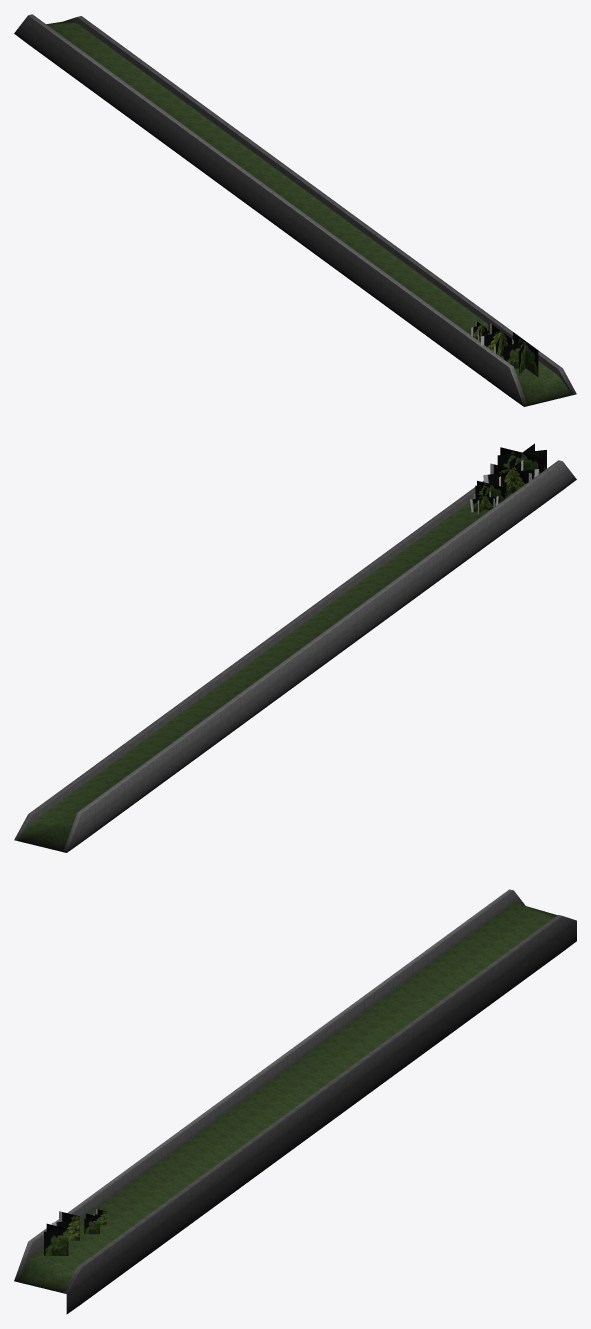
Rendered from KH_LEFT_AMB_100_05.glb.
3 views of the same model, one above another, from view 1: azimuth 30°, elevation 25°; view 2: azimuth 150°, elevation 25°; view 3: azimuth 330°, elevation 25° (orthographic).
Parts seen in each view (by area): view 1: LeftWall1, obj30; view 2: LeftWall1, obj30; view 3: LeftWall1, obj30.
Part boxes in pixels (bbox=[...]): LeftWall1: bbox=[14, 14, 576, 406]; obj30: bbox=[471, 320, 538, 377]; LeftWall1: bbox=[14, 460, 576, 852]; obj30: bbox=[470, 443, 546, 513]; LeftWall1: bbox=[14, 889, 576, 1314]; obj30: bbox=[44, 1209, 106, 1255].
Size of the model in its own units: 6.41 by 6.89 by 106.
4 materials, 4 textured.
